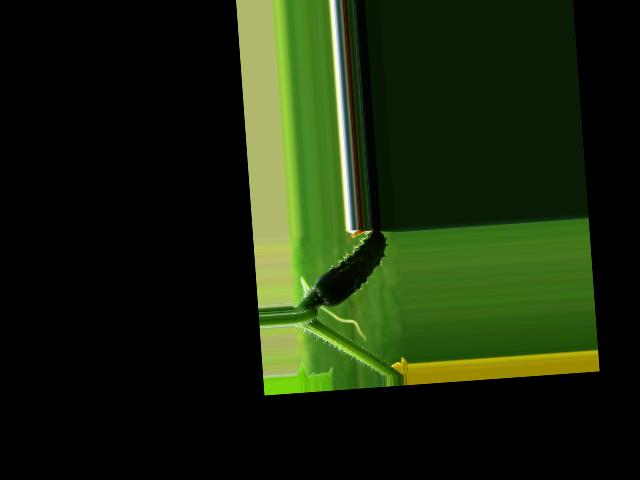cucumber: (311, 230, 391, 309)
